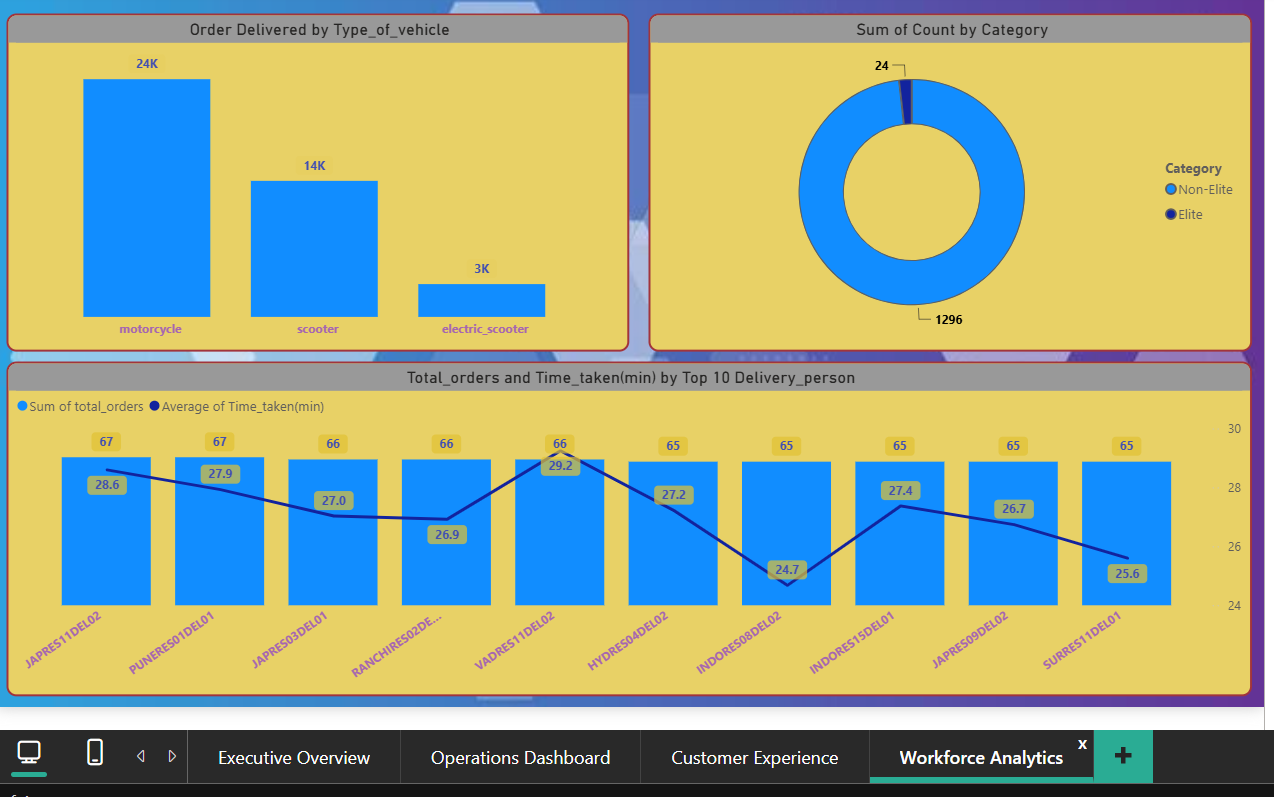

Layout of this report page (visuals, bound fields, positions):
{"tool":"powerbi","page":{"name":"Workforce Analytics","canvas":[1280,720],"ordinal":3},"visuals":[{"type":"clusteredColumnChart","title":"Order Delivered by Type_of_vehicle","fields":{"Category":["food_delivery_cleaned.Type_of_vehicle"],"Y":["CountNonNull(food_delivery_cleaned.ID)"]},"box":[11.1,19,628.6,341.3],"z":1},{"type":"lineClusteredColumnComboChart","title":"Total_orders and Time_taken(min) by Top 10 Delivery_person","fields":{"Category":["partner_stats data.Delivery_person_ID"],"Y":["Sum(partner_stats data.total_orders)"],"Y2":["Avg(partner_stats data.Time_taken(min))"]},"box":[11.1,371.4,1257.1,338.1],"z":2},{"type":"donutChart","fields":{"Category":["elite_summary.Category"],"Y":["Sum(elite_summary.Count)"]},"box":[658.7,19,609.5,341.3],"z":3}]}

Visuals, with their boxes on the page's 1280x720 design canvas (x1, y1, x2, y2). These are canvas units, not pixel positions in the 1274x797 screenshot, which may show the page scaled, cropped or inside an application window:
"Order Delivered by Type_of_vehicle" clusteredColumnChart: crop(11, 19, 640, 360)
"Total_orders and Time_taken(min) by Top 10 Delivery_person" lineClusteredColumnComboChart: crop(11, 371, 1268, 710)
donutChart - elite_summary.Category x Sum(elite_summary.Count): crop(659, 19, 1268, 360)
